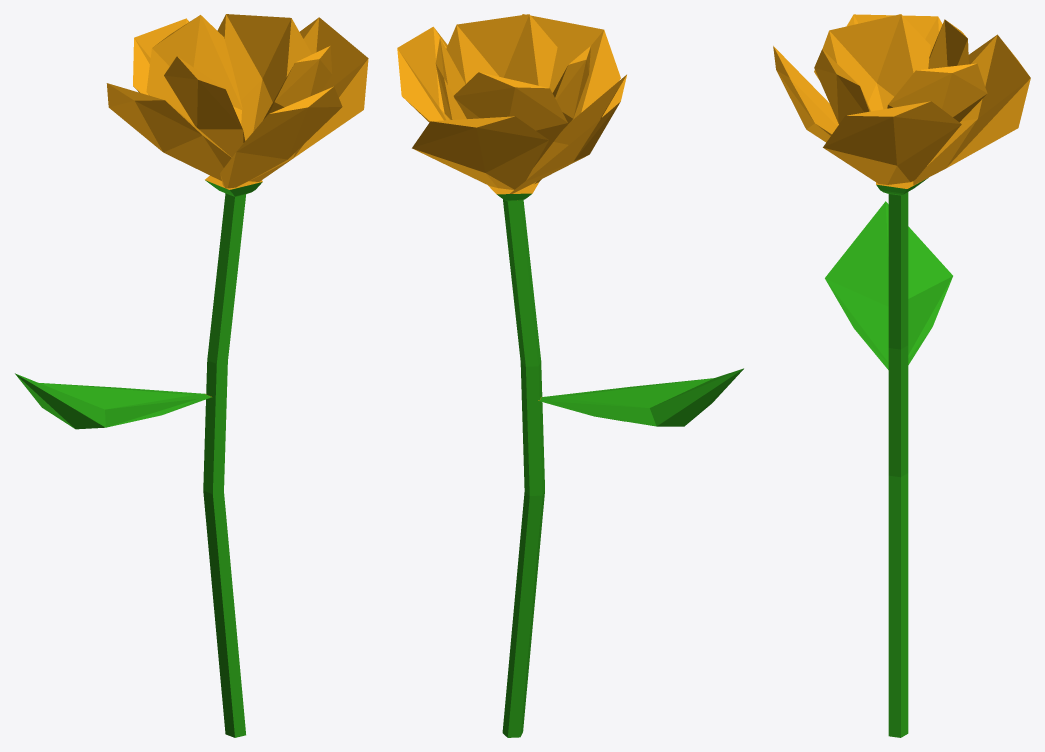
Rendered from flower4.fbx.
The picture shows the model from 3 angles, left to right: view 1: azimuth 30°, elevation 25°; view 2: azimuth 150°, elevation 25°; view 3: azimuth 270°, elevation 25°; orthographic projection.
Visible parts, largest first — view 1: flower4; view 2: flower4; view 3: flower4.
Part boxes in pixels (x1,y1,x2,y2): flower4: (15, 14, 368, 737); flower4: (397, 14, 743, 737); flower4: (773, 14, 1030, 737).
Size of the model in its own units: 99.71 by 197 by 66.15.
